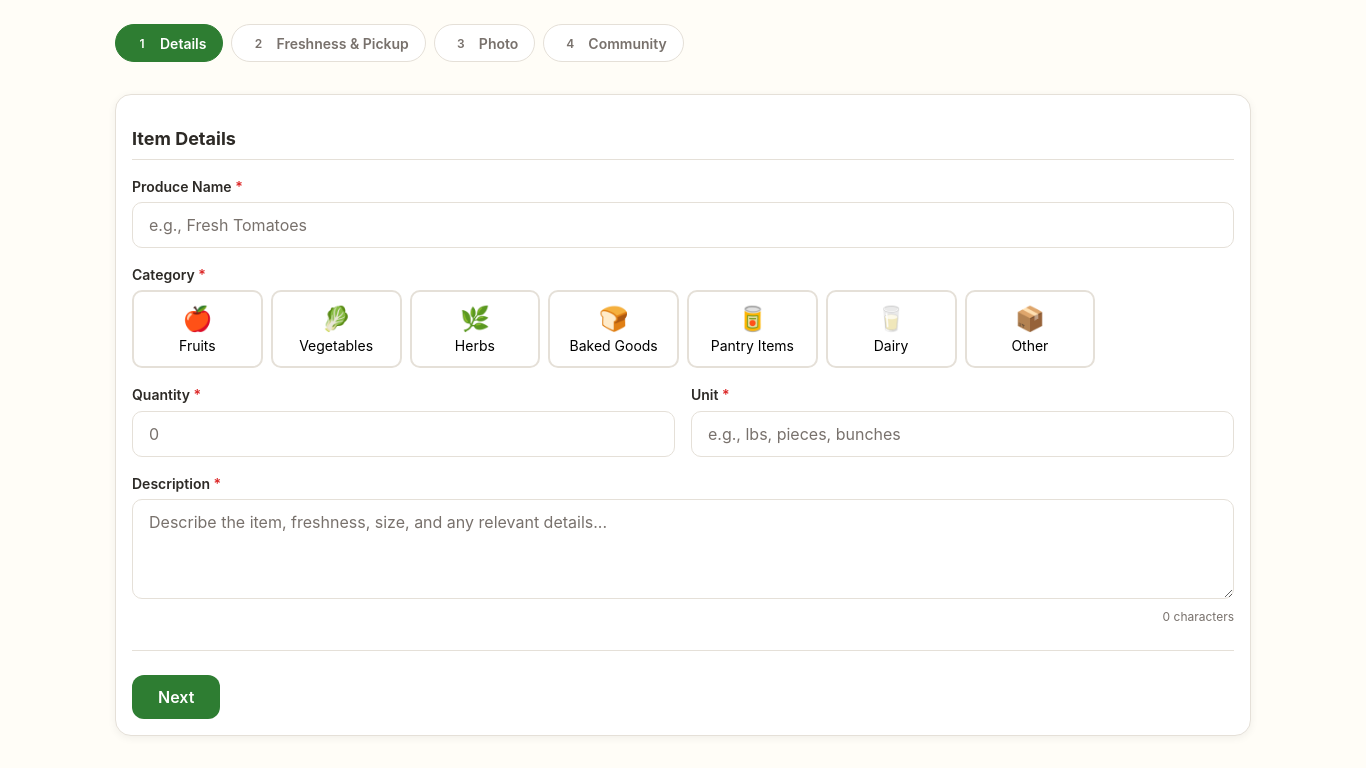
it: CreateListing › step navigation › shows Publish button on the last step
(page scrolled)
# Navigate to step 4 (Community)
Click the button "Next" at (176, 697), box [132, 675, 220, 719]
(page scrolled)
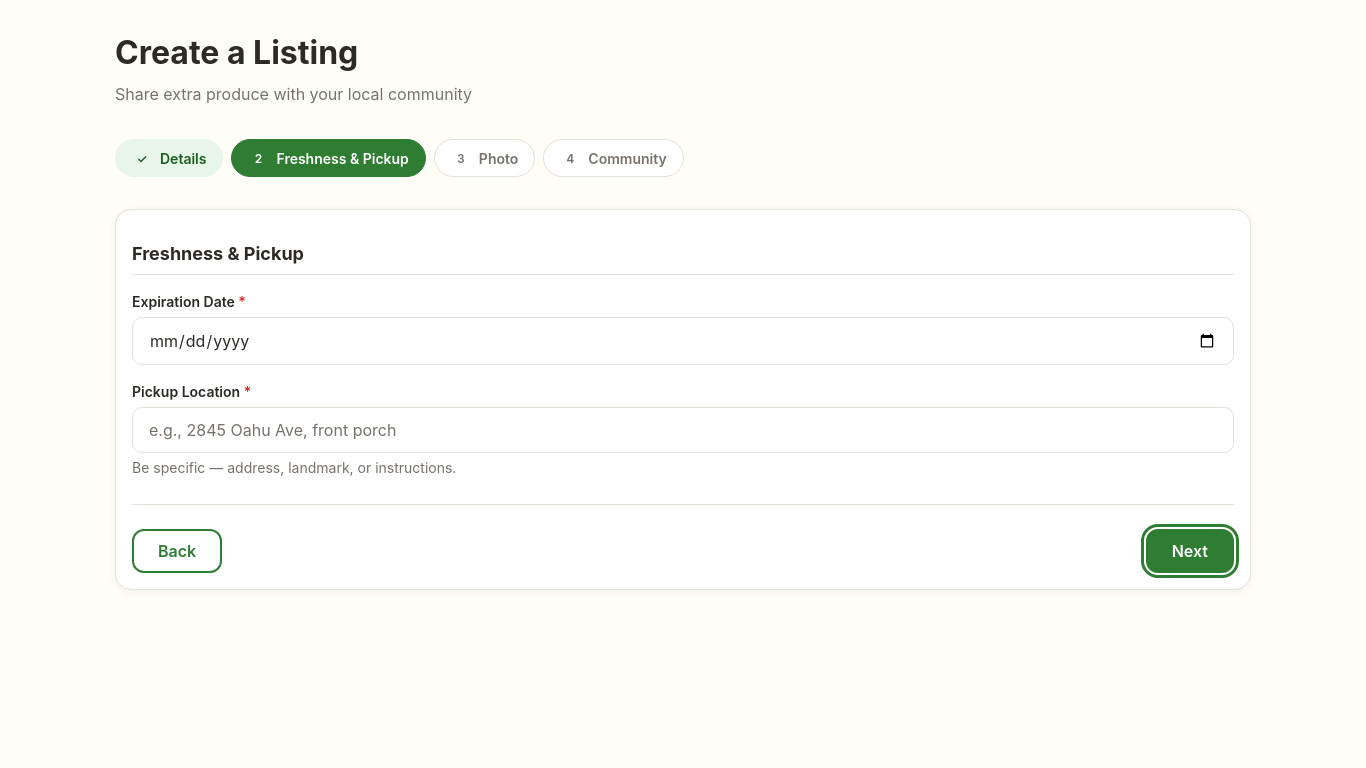
Click the button "Next" at (1190, 551), box [1146, 529, 1234, 573]
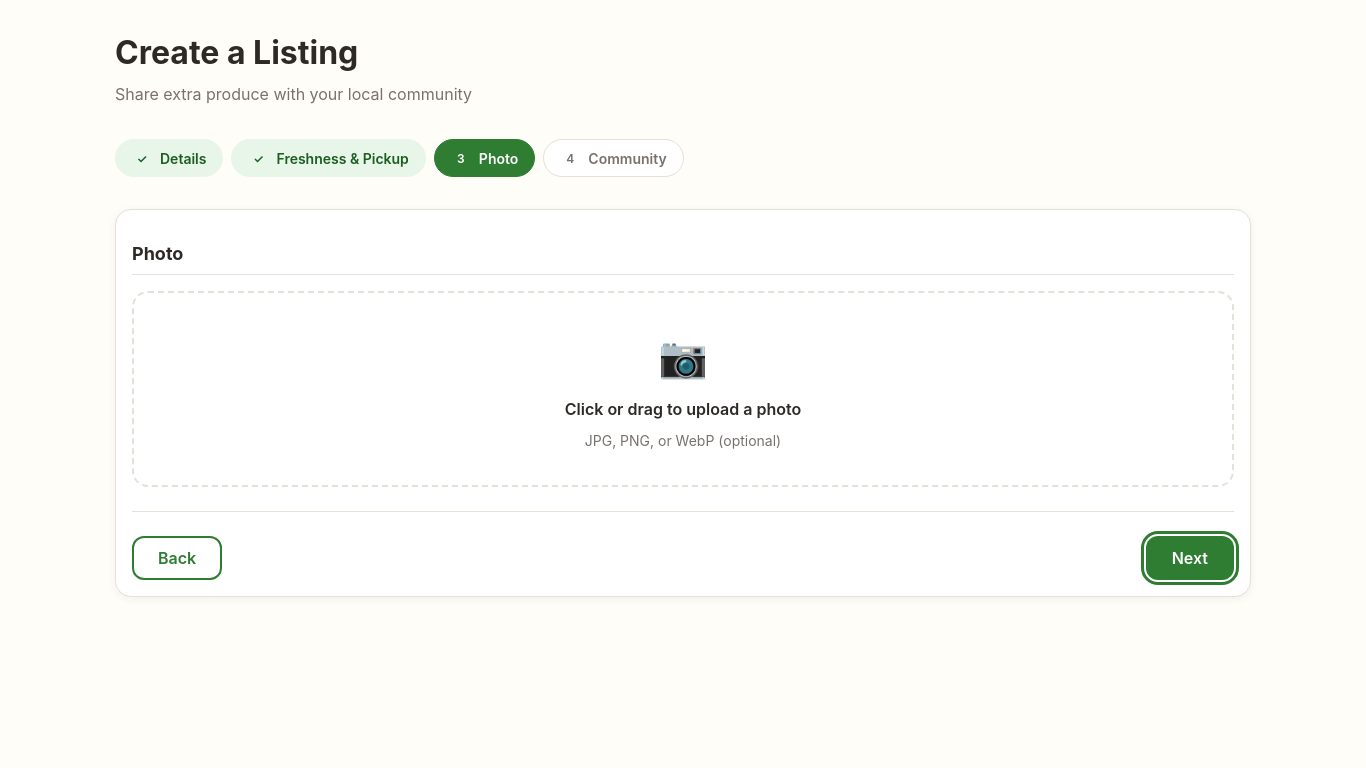
Click the button "Next" at (1190, 558), box [1146, 536, 1234, 580]
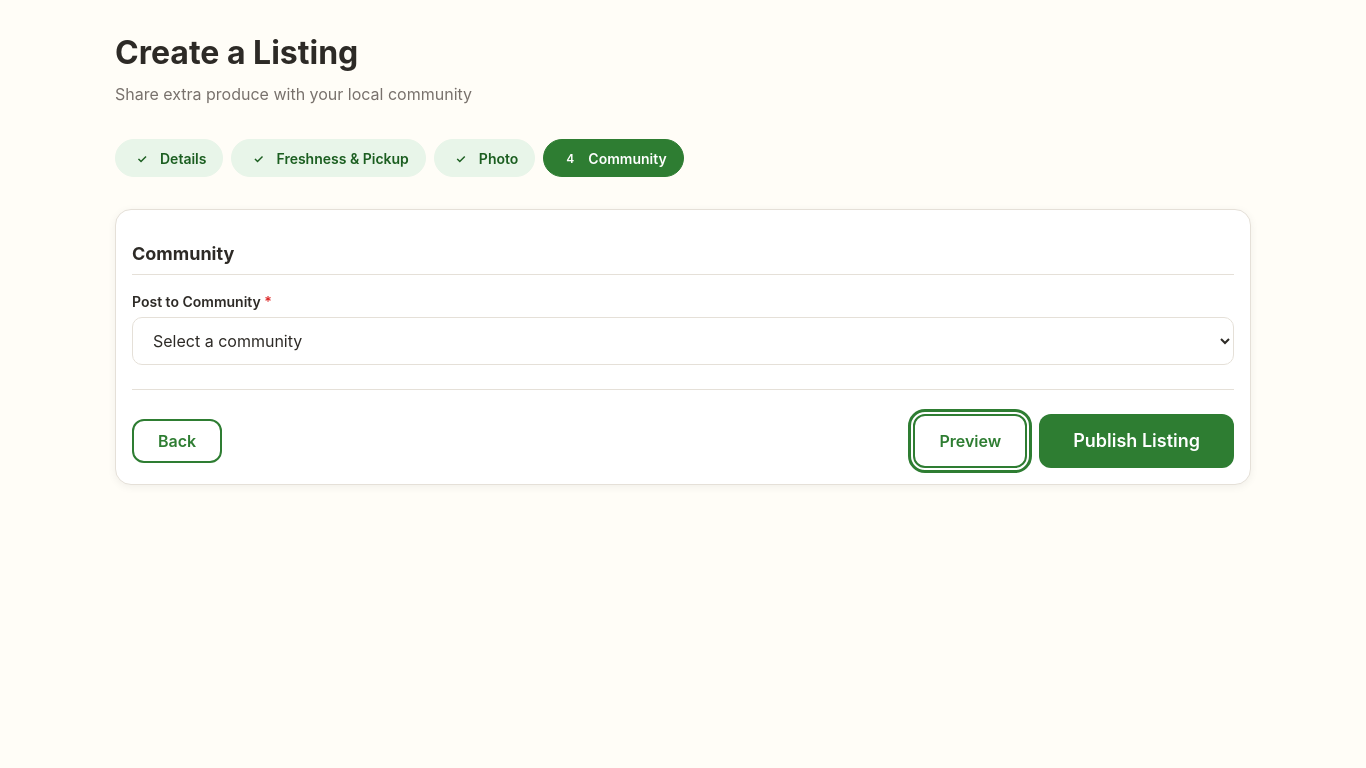
Now the button "Publish Listing" is shown, box [1039, 414, 1234, 468]
